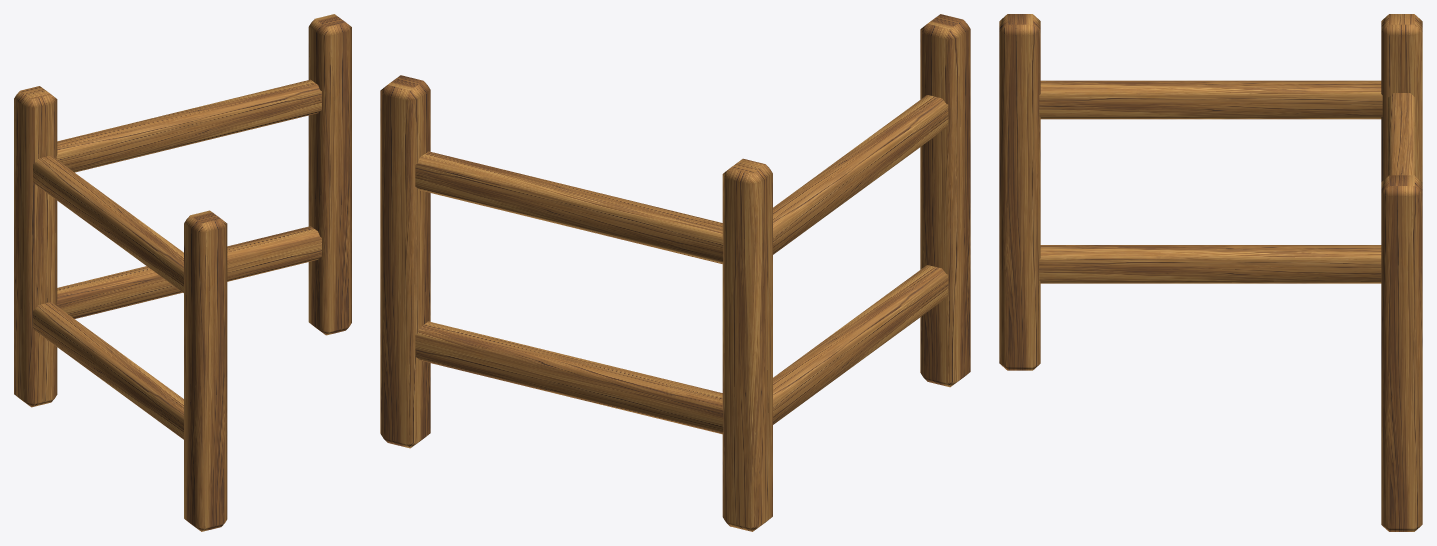
Rendered from 12_Valla_Esquina.obj.
The picture shows the model from 3 angles, left to right: view 1: azimuth 30°, elevation 25°; view 2: azimuth 150°, elevation 25°; view 3: azimuth 270°, elevation 25°; orthographic projection. The views are drawn at different scales.
Parts seen in each view (by area): view 1: 12_Valla_Esquina_Wood; view 2: 12_Valla_Esquina_Wood; view 3: 12_Valla_Esquina_Wood.
Part boxes in pixels (x1=…): 12_Valla_Esquina_Wood: x1=14, y1=14, x2=351, y2=531; 12_Valla_Esquina_Wood: x1=380, y1=14, x2=970, y2=531; 12_Valla_Esquina_Wood: x1=999, y1=14, x2=1422, y2=531.
Bounding box in the file's own units: 1.33 × 1.2 × 1.33.
Materials: 1 (1 with a texture image).
